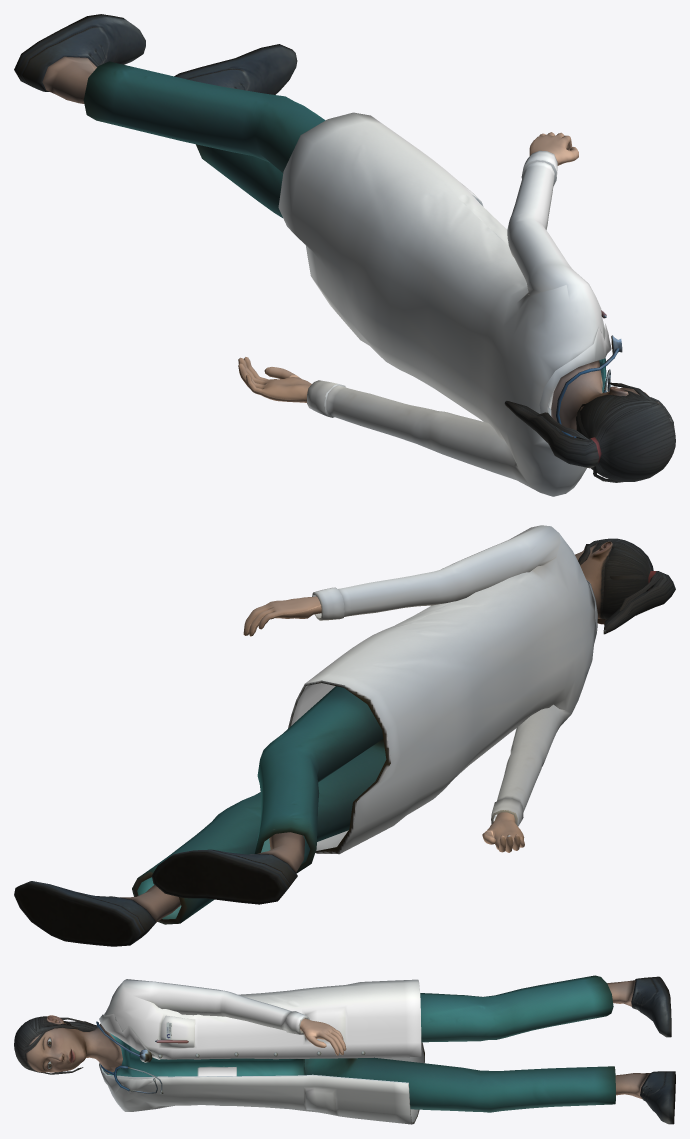
Rendered from walk.obj.
3 renders of one model, top to bottom at view 1: azimuth 30°, elevation 25°; view 2: azimuth 150°, elevation 25°; view 3: azimuth 270°, elevation 25°, orthographic. The views are drawn at different scales.
Size of the model in its own units: 0.5992 by 0.3812 by 1.71.
1 material, 1 textured.
